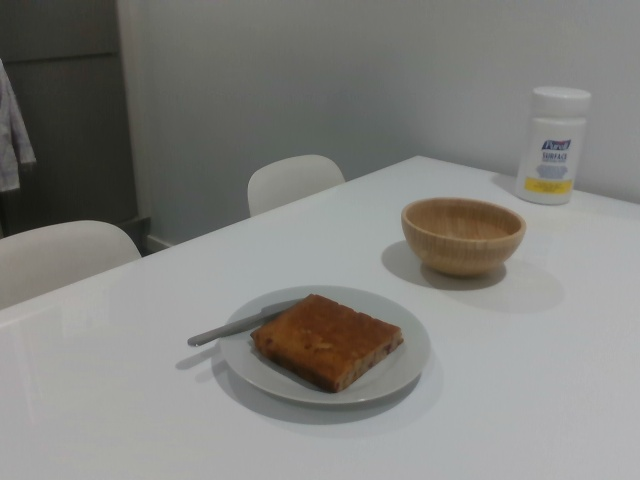alfa: (99, 317, 127, 351)
